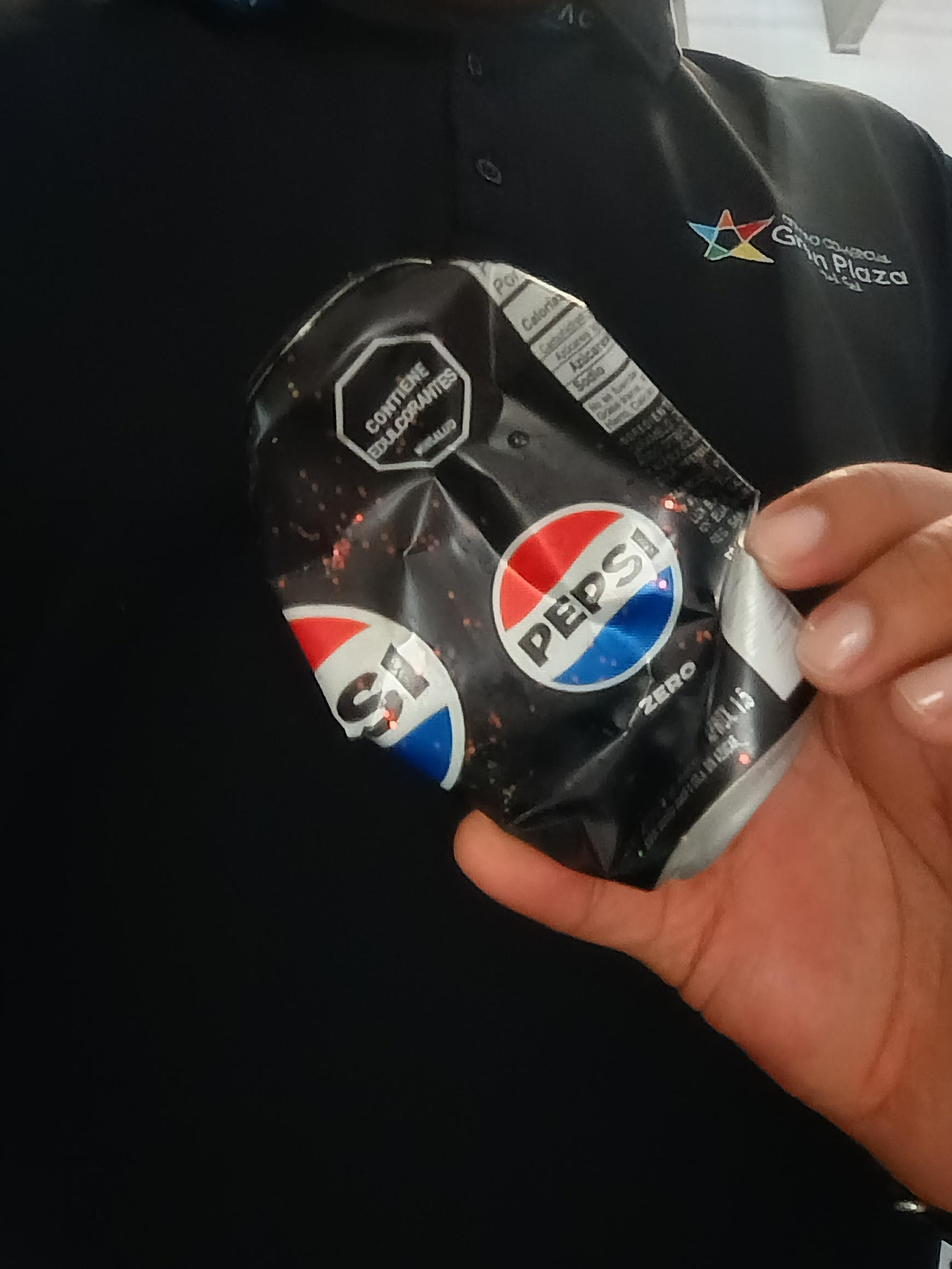Metal: (237, 260, 836, 894)
